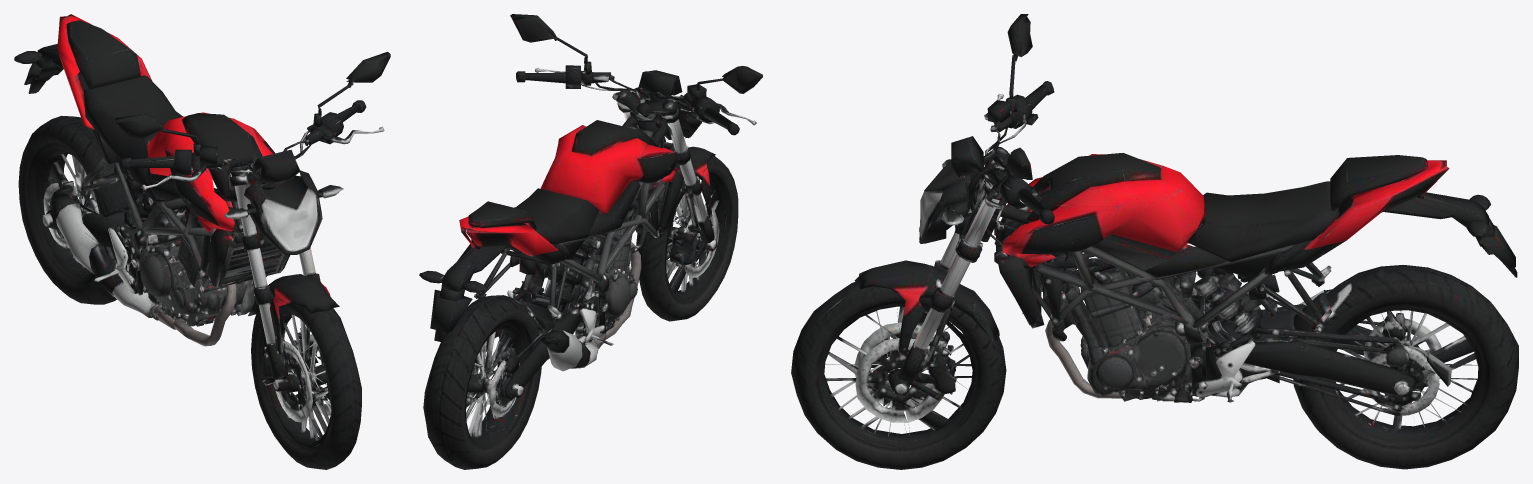
Rendered from moto_250.glb.
3 views of the same model, side by side, from view 1: azimuth 30°, elevation 25°; view 2: azimuth 150°, elevation 25°; view 3: azimuth 270°, elevation 25° (orthographic). The views are drawn at different scales.
Parts seen in each view (by area): view 1: corpo, roda_f, roda_t; view 2: corpo, roda_t, roda_f; view 3: corpo, roda_t, roda_f.
Part boxes in pixels (x1,y1,x2,y2): corpo: [14, 14, 390, 346]; roda_f: [248, 274, 361, 469]; roda_t: [18, 115, 144, 304]; corpo: [419, 14, 762, 466]; roda_t: [423, 292, 562, 469]; roda_f: [635, 157, 738, 321]; corpo: [833, 14, 1518, 433]; roda_t: [1293, 265, 1518, 469]; roda_f: [791, 261, 1006, 469].
Size of the model in its own units: 0.9836 by 1.16 by 2.
Materials: 1 (1 with a texture image).
